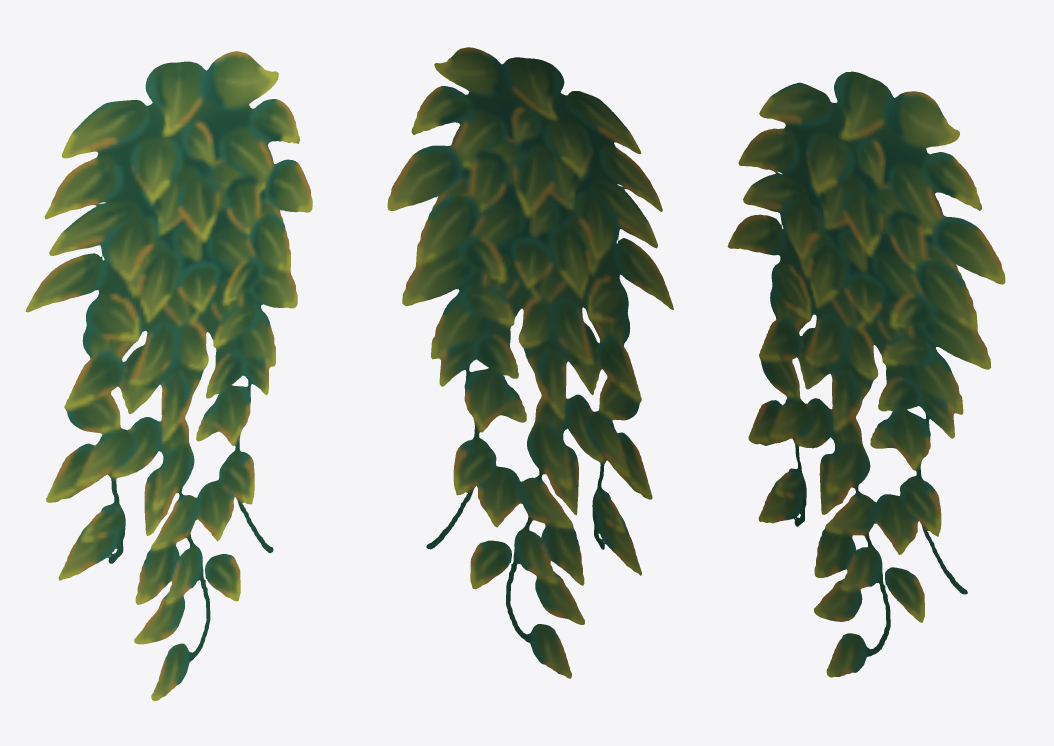
File: hanging_foliage_clump.fbx
The picture shows the model from 3 angles, left to right: view 1: azimuth 30°, elevation 25°; view 2: azimuth 150°, elevation 25°; view 3: azimuth 330°, elevation 25°; orthographic projection. The views are drawn at different scales.
Visible parts, largest first — view 1: hangling_foliage_clump; view 2: hangling_foliage_clump; view 3: hangling_foliage_clump.
Part boxes in pixels (x1=…): hangling_foliage_clump: x1=25, y1=51, x2=312, y2=700; hangling_foliage_clump: x1=387, y1=47, x2=673, y2=678; hangling_foliage_clump: x1=727, y1=71, x2=1005, y2=677.
Bounding box in the file's own units: 28.53 × 57.15 × 4.55.
